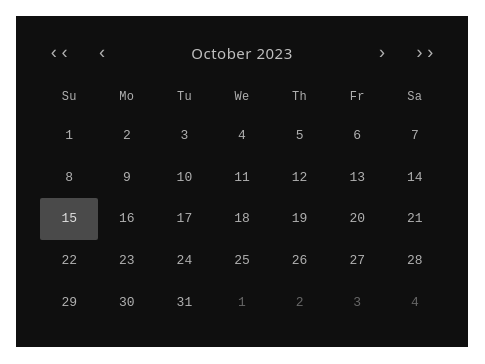
Scenario: Calendar using date-fns › navigates to next year
Click the button titled "Next year" at (425, 53), box [406,40,444,66]
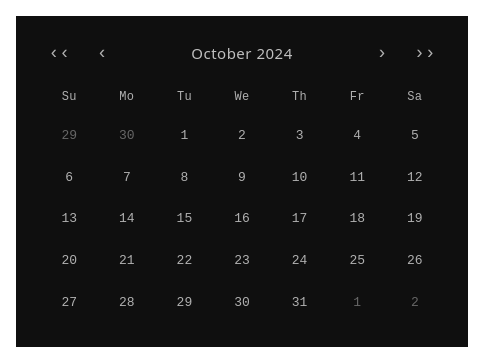
Now the text "October 2024" is shown, box [191,43,293,63]
